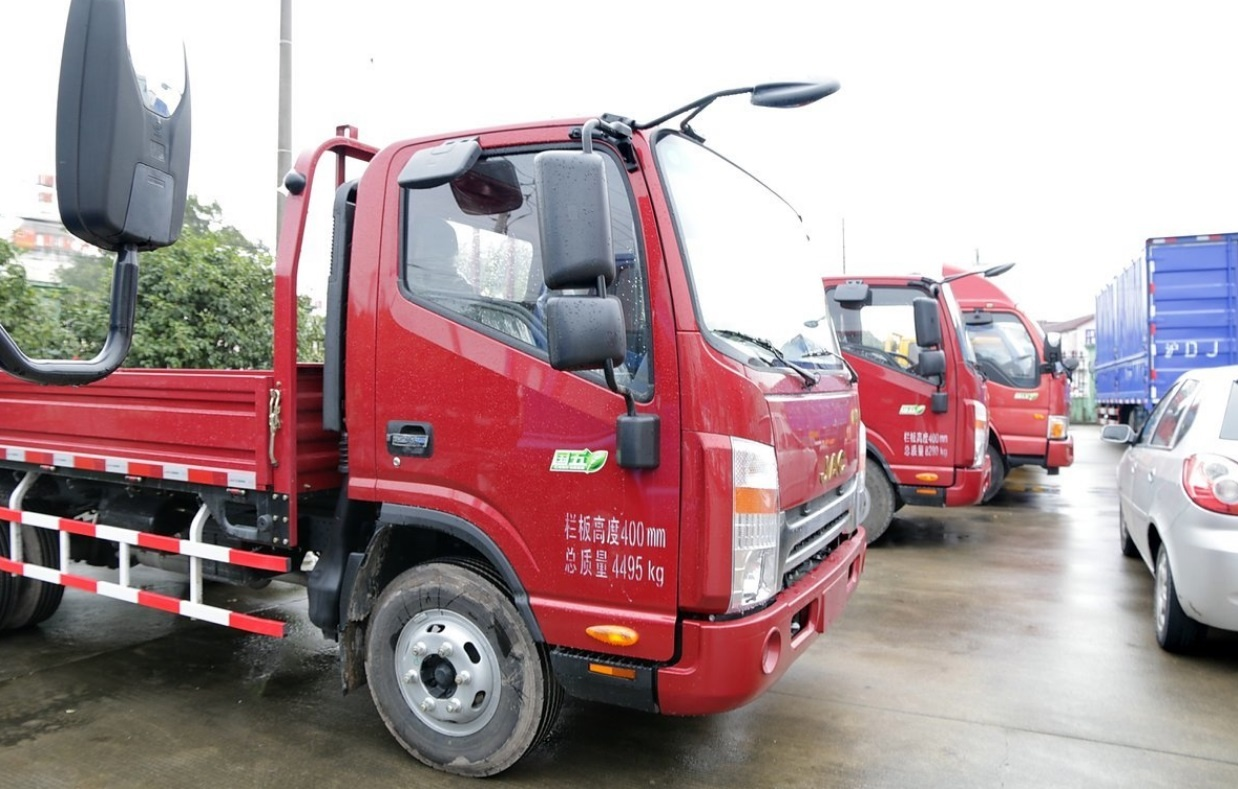heavy truck: (8, 150, 881, 773)
